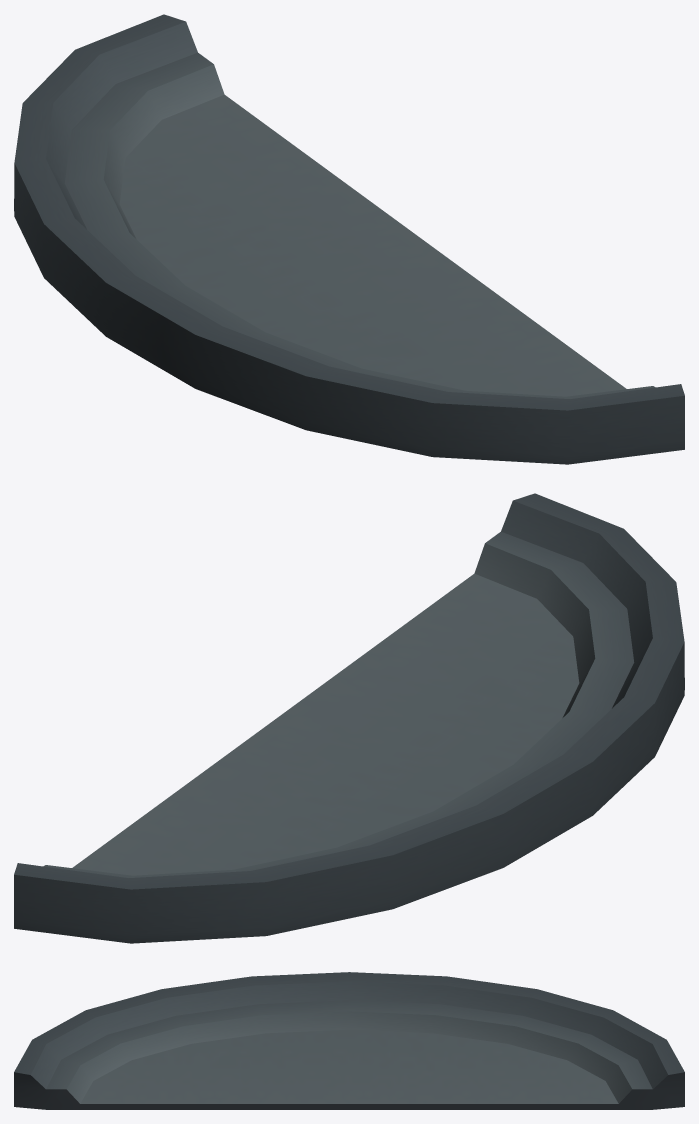
Rendered from Steps.fbx.
3 renders of one model, top to bottom at view 1: azimuth 30°, elevation 25°; view 2: azimuth 150°, elevation 25°; view 3: azimuth 270°, elevation 25°, orthographic. The views are drawn at different scales.
Visible parts, largest first — view 1: pCylinder3; view 2: pCylinder3; view 3: pCylinder3.
Part boxes in pixels (<box>): pCylinder3: <box>14,14,684,464</box>; pCylinder3: <box>14,493,684,943</box>; pCylinder3: <box>14,972,684,1109</box>.
Size of the model in its own units: 6.94 by 1.09 by 19.09.
